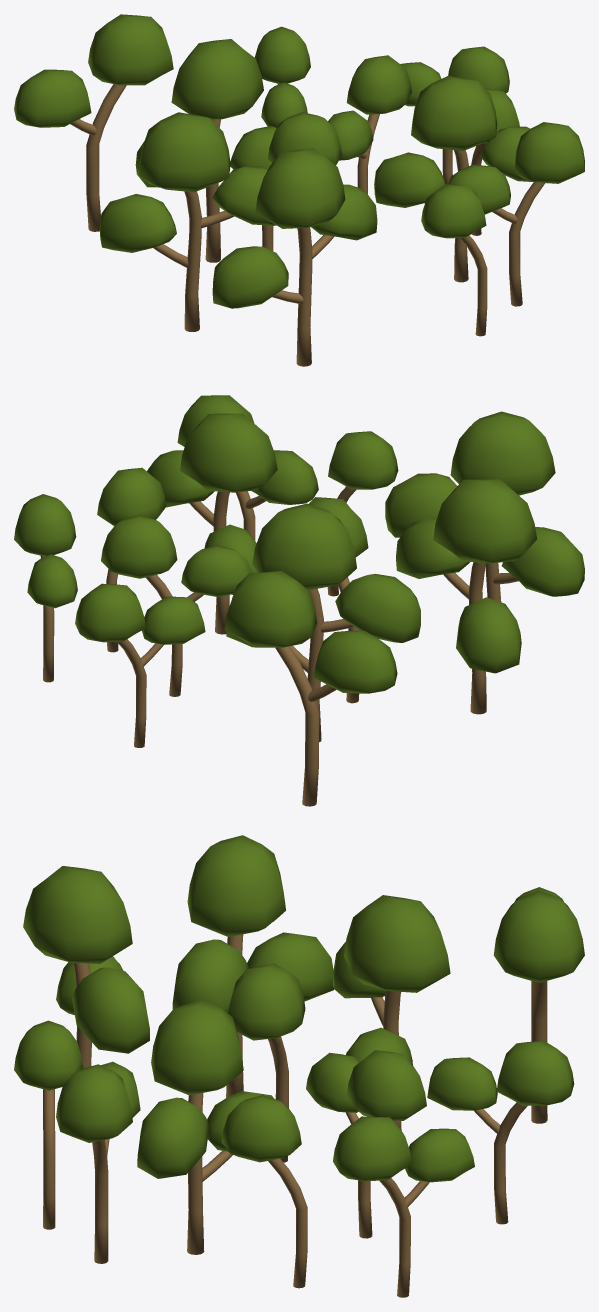
Rendered from Trees.glb.
3 views of the same model, one above another, from view 1: azimuth 30°, elevation 25°; view 2: azimuth 150°, elevation 25°; view 3: azimuth 270°, elevation 25° (orthographic). The views are drawn at different scales.
Parts seen in each view (by area): view 1: Resource_Tree_Group; view 2: Resource_Tree_Group; view 3: Resource_Tree_Group.
Boxes of the visible parts, x1,y1,x2,y2 form: Resource_Tree_Group: (14,14,584,366); Resource_Tree_Group: (14,395,584,806); Resource_Tree_Group: (14,835,584,1297).
Bounding box in the file's own units: 1.97 × 0.9265 × 1.86.
